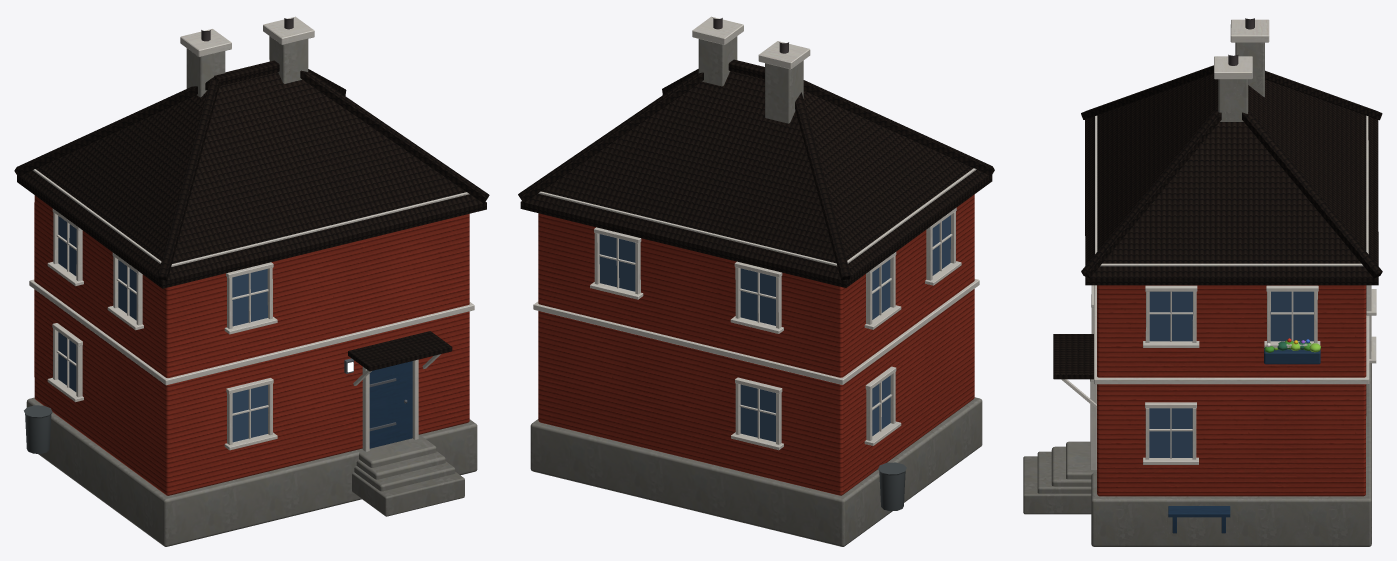
The model's file is modern_house.gltf.
3 views of the same model, side by side, from view 1: azimuth 30°, elevation 25°; view 2: azimuth 150°, elevation 25°; view 3: azimuth 270°, elevation 25° (orthographic).
Visible parts, largest first — view 1: modern_house_wall_LOD0, modern_house_roof_LOD0, modern_house_base_LOD0, modern_house_trim_LOD0, modern_house_glass_LOD0, modern_house_door_LOD0, modern_house_metal_LOD0; view 2: modern_house_wall_LOD0, modern_house_roof_LOD0, modern_house_base_LOD0, modern_house_trim_LOD0, modern_house_glass_LOD0, modern_house_metal_LOD0; view 3: modern_house_roof_LOD0, modern_house_wall_LOD0, modern_house_base_LOD0, modern_house_trim_LOD0, modern_house_glass_LOD0, modern_house_door_LOD0, modern_house_flora_LOD0.
Part boxes in pixels (bbox=[...]): modern_house_wall_LOD0: bbox=[34, 195, 469, 495]; modern_house_roof_LOD0: bbox=[14, 60, 489, 371]; modern_house_base_LOD0: bbox=[26, 36, 477, 546]; modern_house_trim_LOD0: bbox=[29, 16, 474, 451]; modern_house_glass_LOD0: bbox=[58, 216, 267, 442]; modern_house_door_LOD0: bbox=[369, 361, 412, 448]; modern_house_metal_LOD0: bbox=[24, 18, 407, 453]; modern_house_wall_LOD0: bbox=[538, 194, 974, 495]; modern_house_roof_LOD0: bbox=[518, 59, 994, 287]; modern_house_base_LOD0: bbox=[530, 36, 982, 546]; modern_house_trim_LOD0: bbox=[533, 16, 979, 450]; modern_house_glass_LOD0: bbox=[599, 215, 950, 441]; modern_house_metal_LOD0: bbox=[712, 17, 906, 511]; modern_house_roof_LOD0: bbox=[1053, 65, 1382, 379]; modern_house_wall_LOD0: bbox=[1097, 285, 1366, 496]; modern_house_base_LOD0: bbox=[1023, 42, 1371, 546]; modern_house_trim_LOD0: bbox=[1061, 19, 1376, 469]; modern_house_glass_LOD0: bbox=[1149, 291, 1313, 457]; modern_house_door_LOD0: bbox=[1168, 348, 1320, 533]; modern_house_flora_LOD0: bbox=[1264, 338, 1320, 352].
Size of what is drawn, in the model's own units: 9.54 by 10.83 by 8.09.
9 materials, 5 textured.
